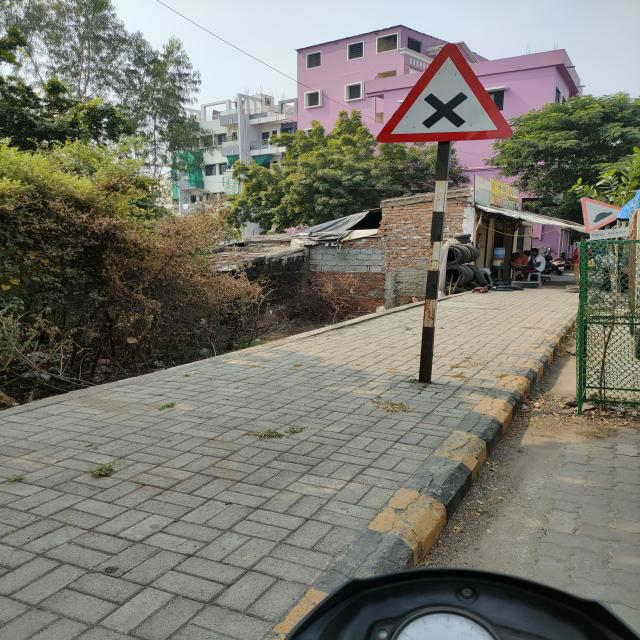cross_road: (373, 40, 515, 152)
